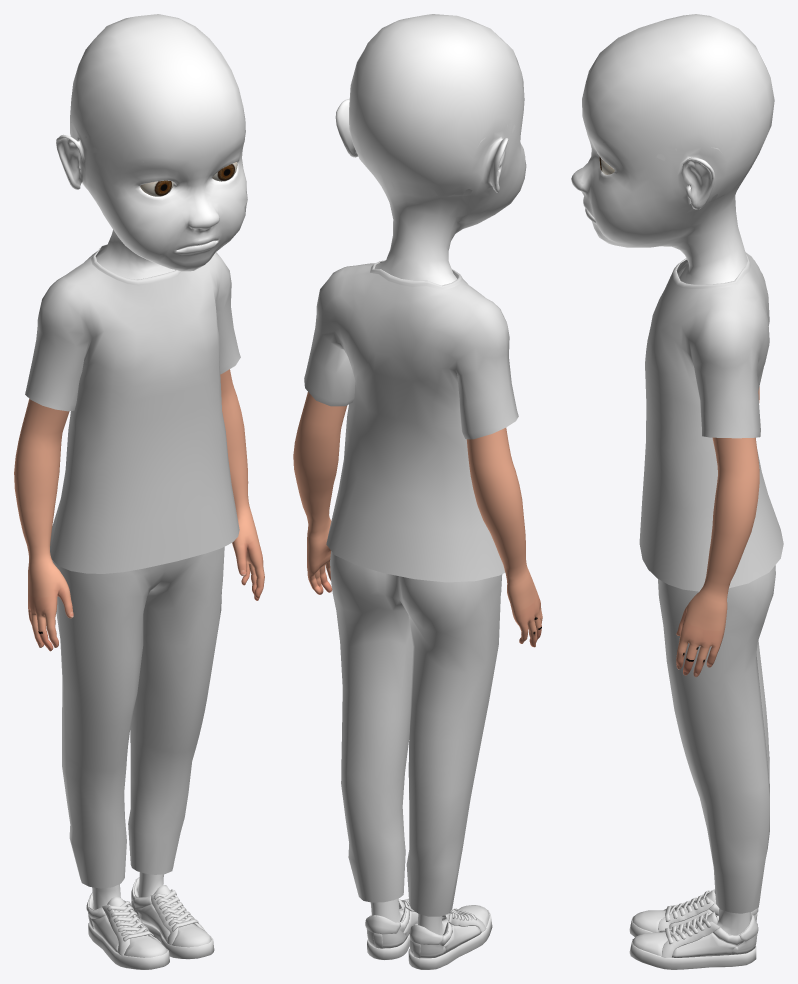
File: Sad.fbx
3 views of the same model, side by side, from view 1: azimuth 30°, elevation 25°; view 2: azimuth 150°, elevation 25°; view 3: azimuth 270°, elevation 25° (orthographic).
Parts seen in each view (by area): view 1: tshirt_low, body_low, pant_low, back_low; view 2: tshirt_low, body_low, pant_low, back_low; view 3: body_low, tshirt_low, pant_low, back_low.
Part boxes in pixels (x1,y1,x2,y2): tshirt_low: (25, 244, 240, 573); body_low: (14, 14, 264, 909); pant_low: (52, 547, 224, 888); back_low: (86, 877, 214, 969); tshirt_low: (304, 260, 518, 582); body_low: (293, 14, 542, 935); pant_low: (330, 551, 502, 916); back_low: (365, 898, 492, 969); body_low: (571, 14, 774, 934); tshirt_low: (639, 252, 783, 591); pant_low: (658, 565, 775, 913); back_low: (629, 889, 758, 969).
Size of the model in its own units: 17.98 by 70.24 by 14.66.
4 materials, 1 textured.
